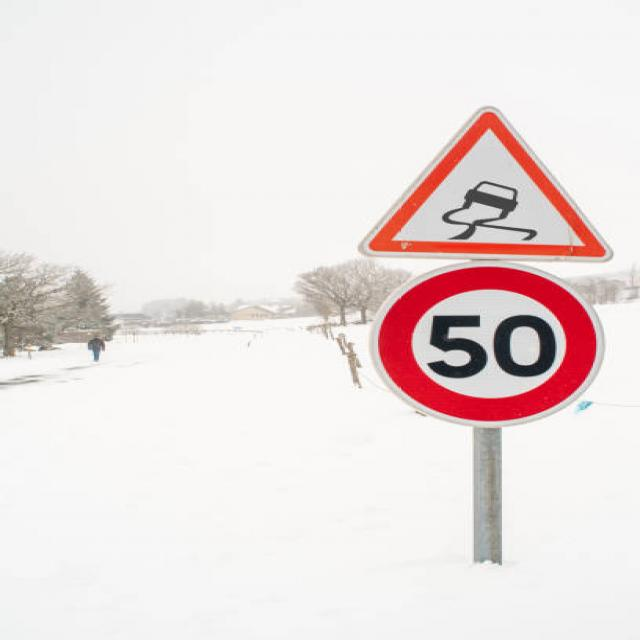road_slippery: (348, 98, 636, 266)
speed_limit_50: (360, 260, 609, 435)
